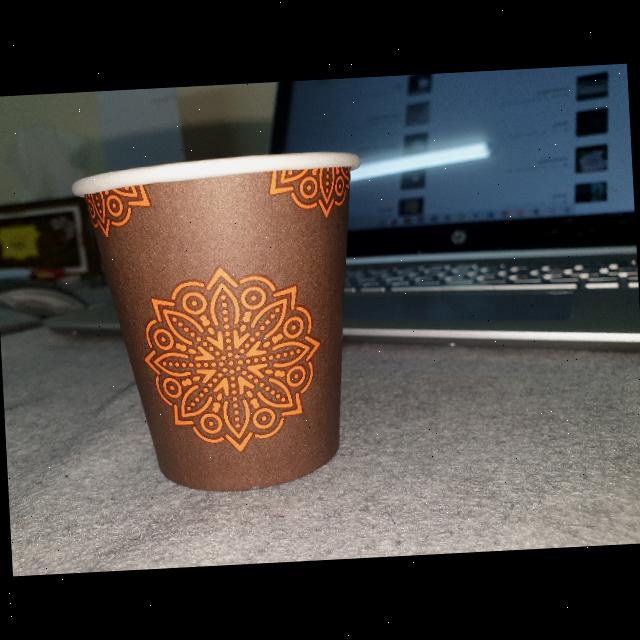trash: (52, 138, 410, 507)
